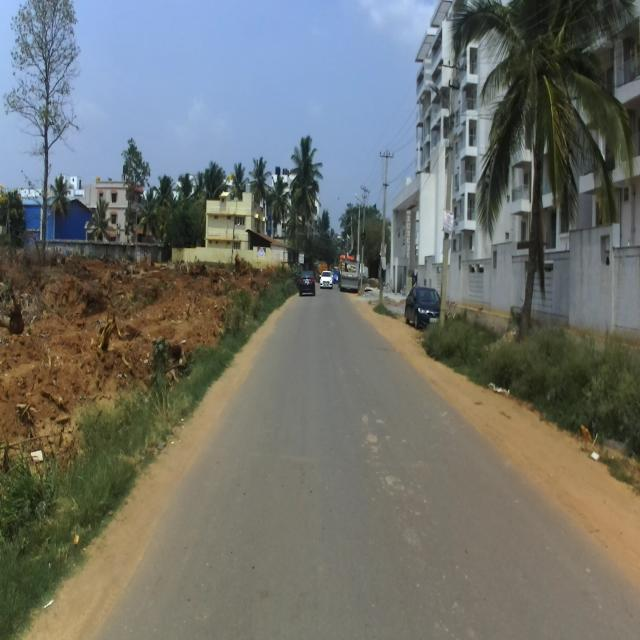car ahead at: (403, 273, 443, 341)
